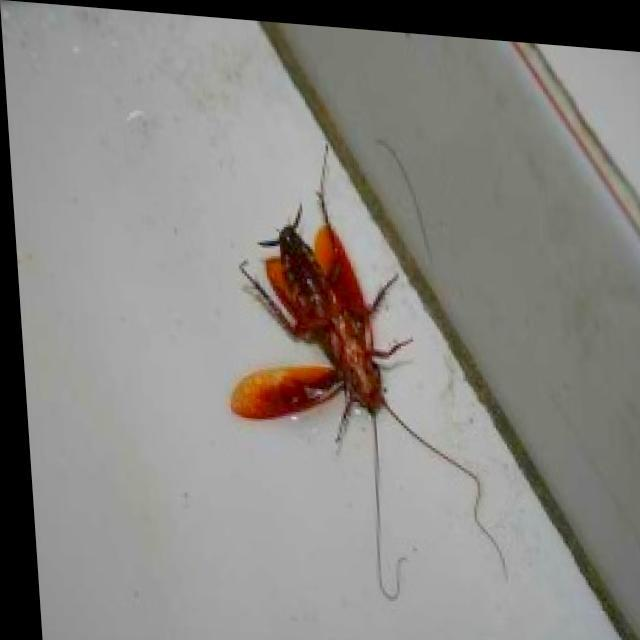cockroach: (228, 143, 512, 602)
